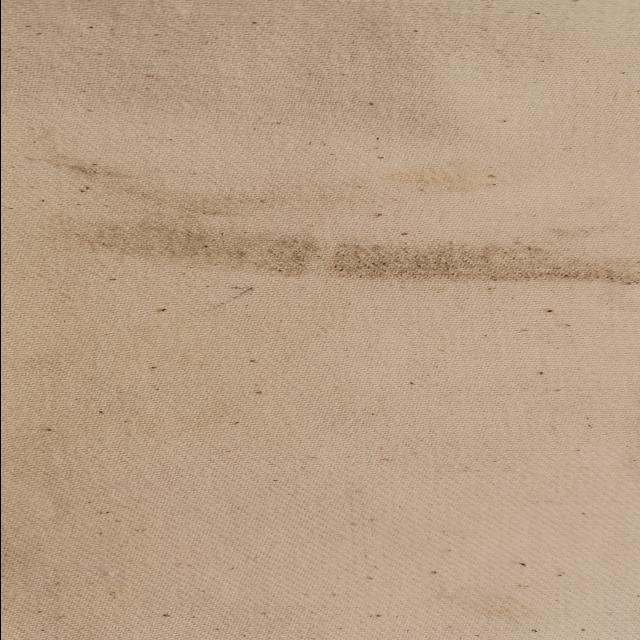taaaches: (91, 192, 617, 314), (45, 148, 128, 185)
